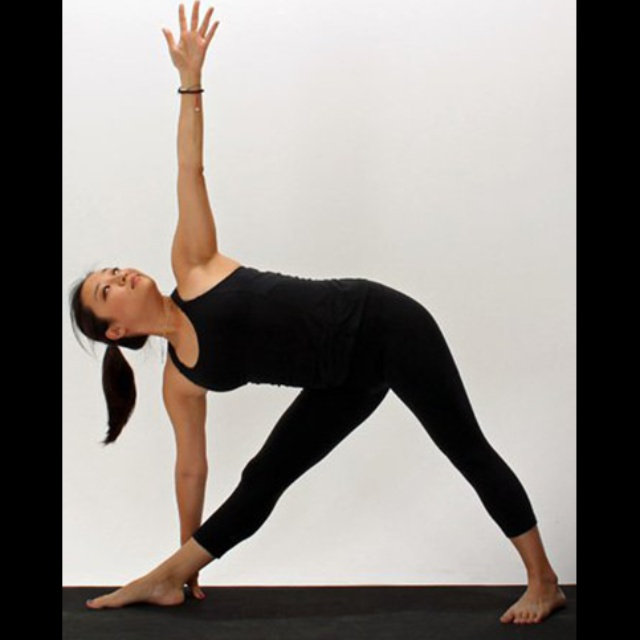Triangle_Pose: (61, 1, 568, 628)
